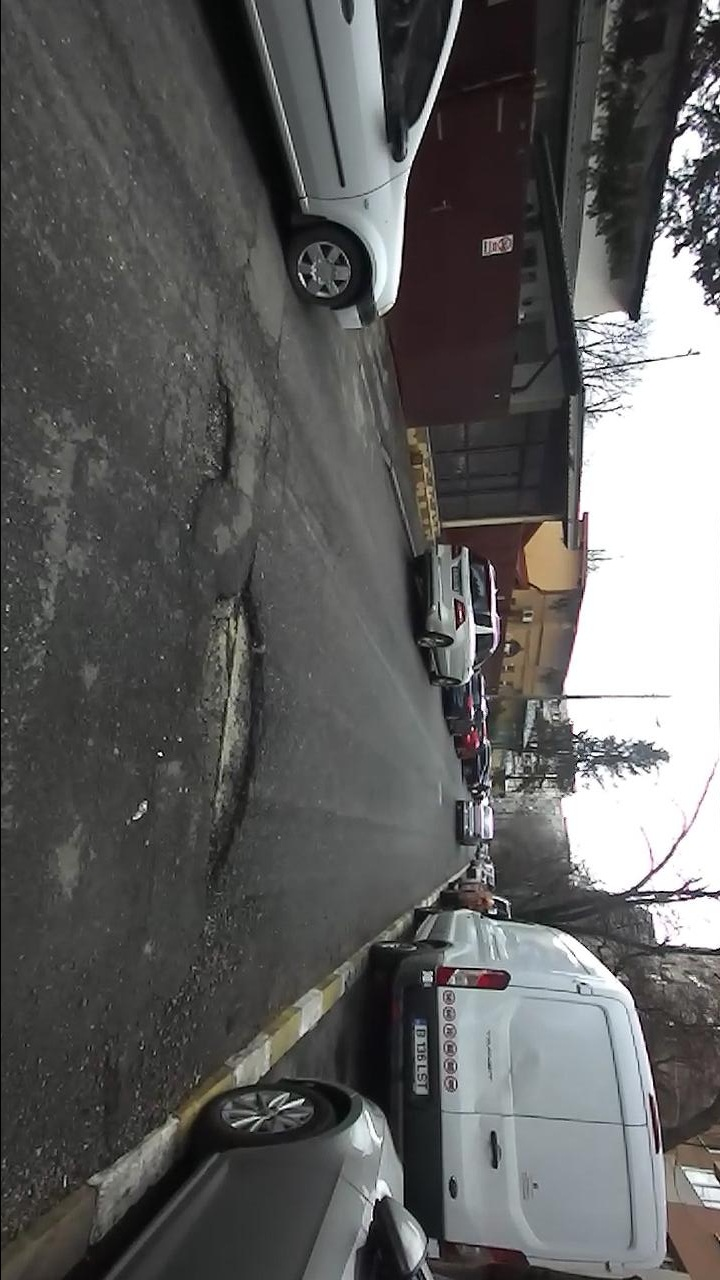pothole: (181, 546, 275, 915), (181, 354, 241, 536)
